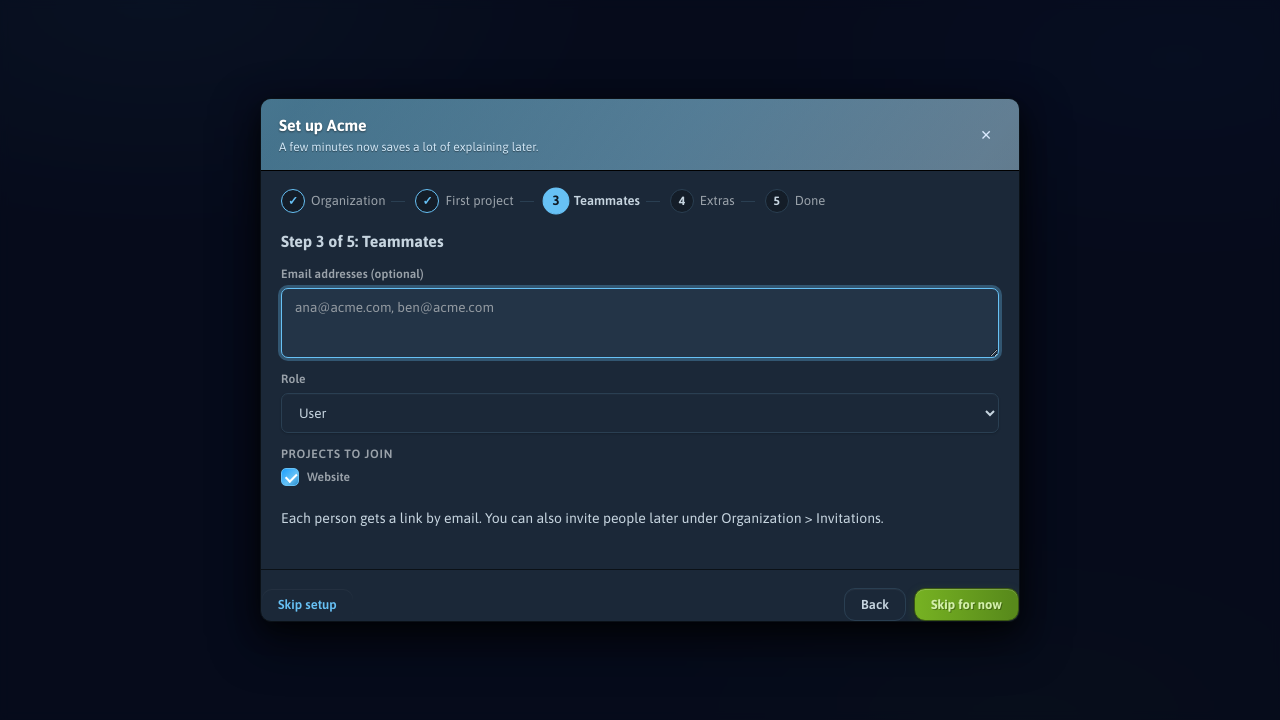
Test: SetupWizard › invites each address, reports failures and keeps only the failed ones
Type "ok@x.co, bad@x.co" into the text box labelled "Email addresses (optional)" at (640, 323), box [281, 288, 999, 358]
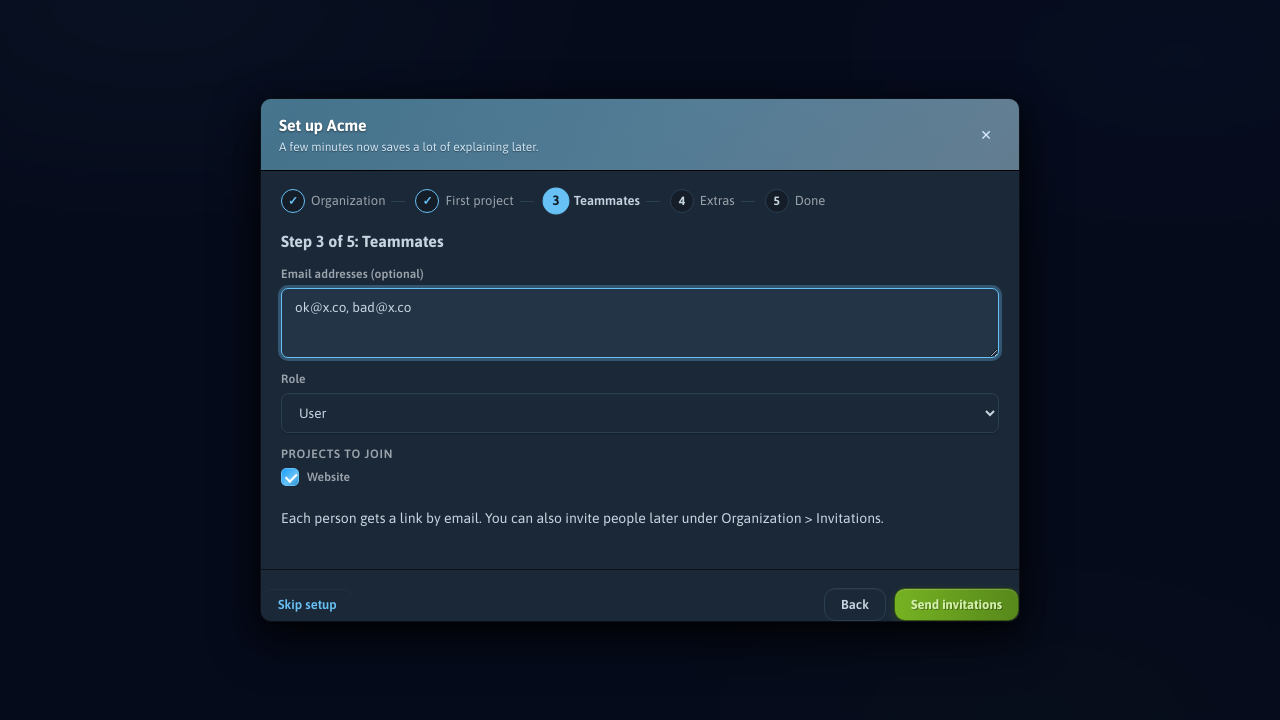
Select "Manager" in the dropdown labelled "Role" at (640, 413), box [281, 393, 999, 433]
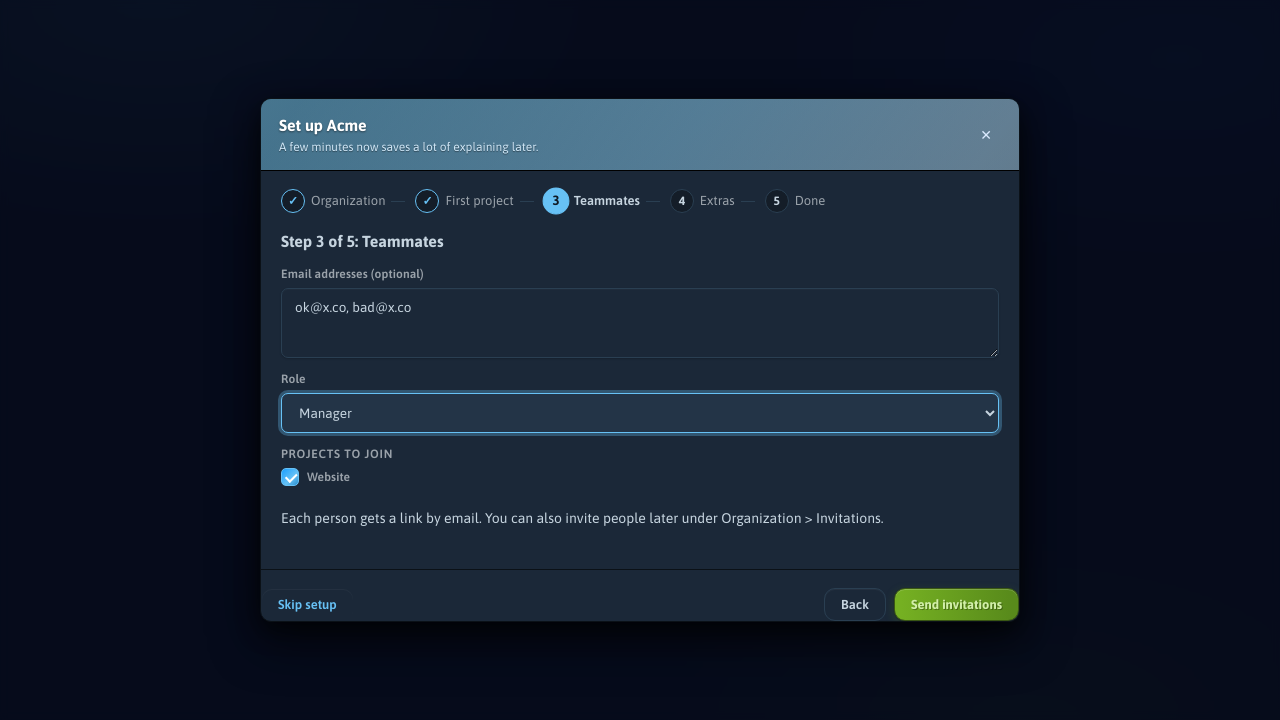
Click the button "Send invitations" at (956, 604), box [894, 588, 1019, 621]
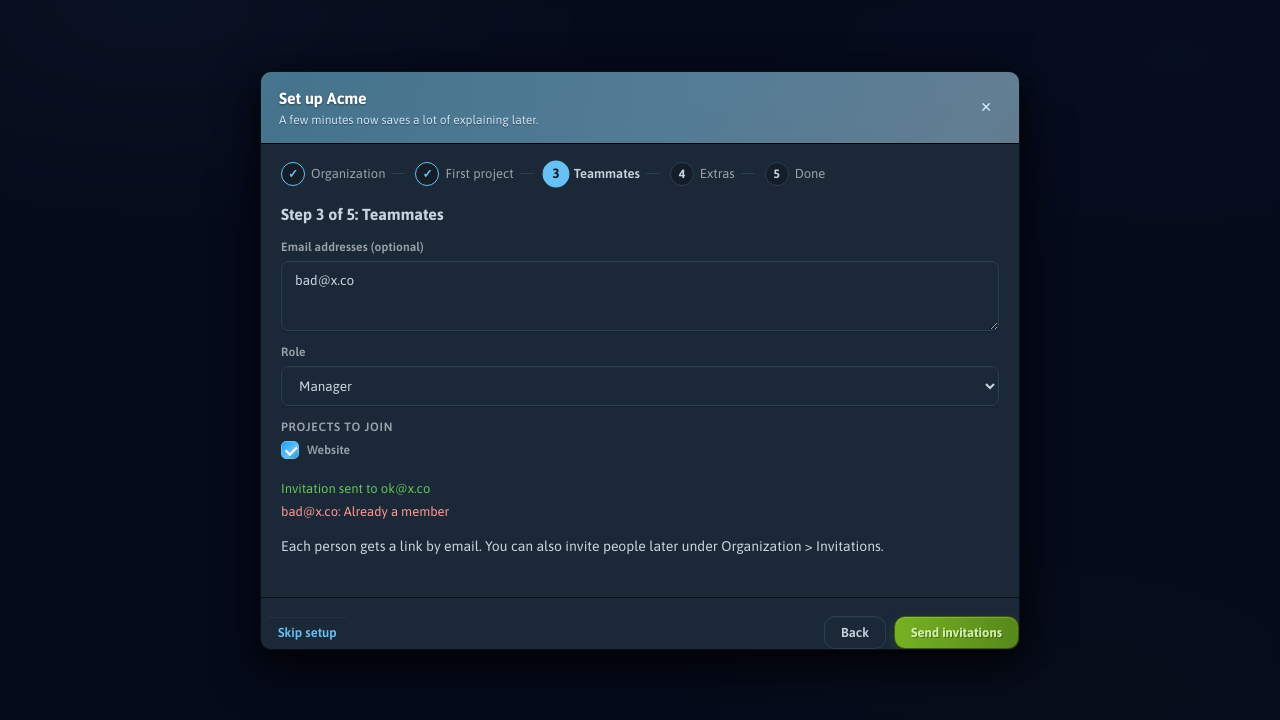
expect the list item "Invitation sent to ok@x.co" is shown: met, box [281, 480, 430, 496]
expect the list item "bad@x.co: Already a member" is shown: met, box [281, 504, 449, 519]
expect the text box labelled "Email addresses (optional)" holds "bad@x.co": met, box [281, 260, 999, 330]
